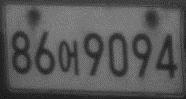0: (106, 32, 129, 77)
4: (154, 33, 178, 80)
6: (33, 31, 55, 75)
8: (10, 29, 32, 75)
9: (131, 32, 153, 79), (83, 32, 104, 77)
어: (58, 38, 80, 76)
